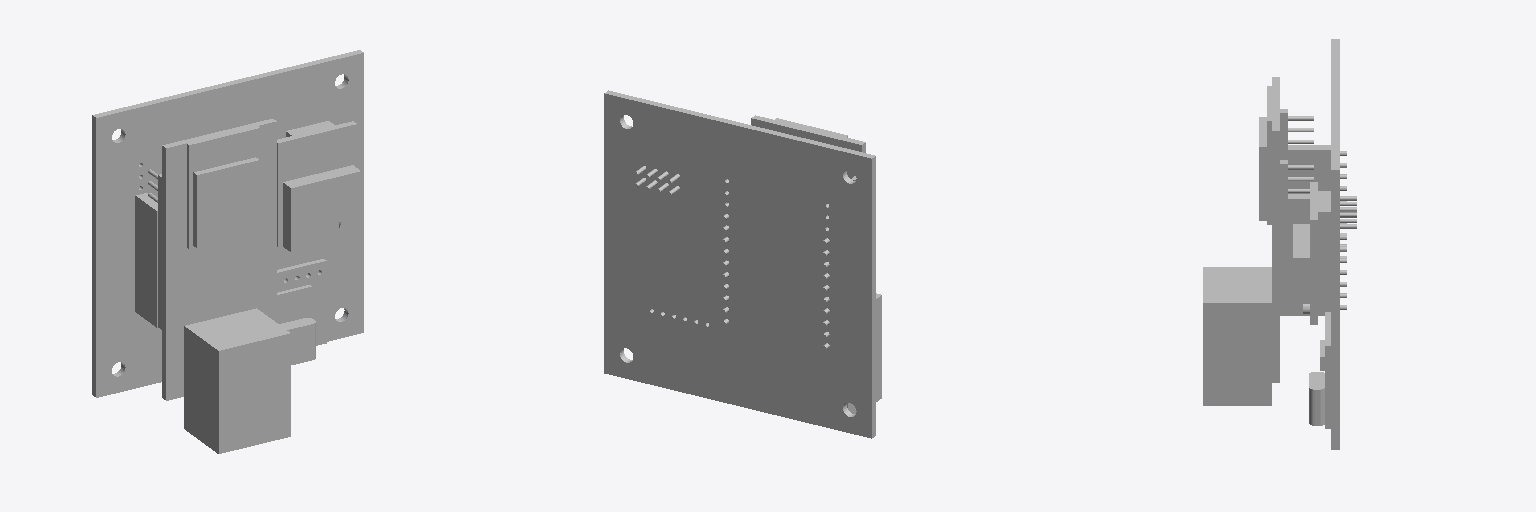
File: MLH3 v2.0.obj
3 renders of one model, left to right at view 1: azimuth 30°, elevation 25°; view 2: azimuth 150°, elevation 25°; view 3: azimuth 270°, elevation 25°, orthographic.
Parts seen in each view (by area): view 1: PCB, PCB:2, RJ45, SX11278, ESP32-wroom, PCB:1, Corps1, Antenna, Corps1:2, Corps2:2, J2, Corps3:2; view 2: PCB, PCB:2, RJ45; view 3: RJ45, PCB, PCB:2, Corps1:1, Corps1, SX11278, J1, PCB:1, Corps2:2, ESP32-wroom, Corps1:2, Antenna (+1 smaller).
Part boxes in pixels (bbox=[...]): PCB: bbox=[92, 50, 363, 397]; PCB:2: bbox=[162, 119, 276, 400]; RJ45: bbox=[184, 308, 290, 453]; SX11278: bbox=[283, 165, 360, 252]; ESP32-wroom: bbox=[193, 157, 259, 248]; PCB:1: bbox=[277, 121, 356, 247]; Corps1: bbox=[135, 193, 157, 327]; Antenna: bbox=[187, 126, 259, 248]; Corps1:2: bbox=[277, 259, 326, 345]; Corps2:2: bbox=[279, 318, 315, 364]; J2: bbox=[158, 174, 161, 329]; Corps3:2: bbox=[277, 285, 312, 308]; PCB: bbox=[604, 90, 875, 438]; PCB:2: bbox=[751, 115, 865, 178]; RJ45: bbox=[847, 293, 881, 413]; RJ45: bbox=[1203, 267, 1271, 405]; PCB: bbox=[1331, 39, 1339, 449]; PCB:2: bbox=[1272, 77, 1279, 382]; Corps1:1: bbox=[1288, 194, 1330, 315]; Corps1: bbox=[1288, 145, 1330, 193]; SX11278: bbox=[1293, 224, 1309, 311]; J1: bbox=[1280, 160, 1287, 315]; PCB:1: bbox=[1310, 182, 1317, 324]; Corps2:2: bbox=[1309, 372, 1324, 425]; ESP32-wroom: bbox=[1259, 117, 1266, 220]; Corps1:2: bbox=[1325, 312, 1330, 428]; Antenna: bbox=[1267, 86, 1271, 224].
Bounding box in the file's own units: 6.1 × 6.61 × 3.03.